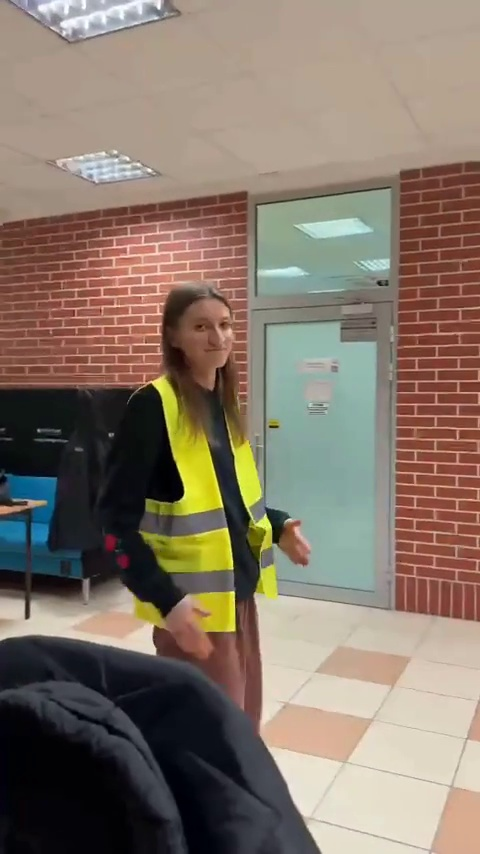vest: (102, 280, 305, 695)
